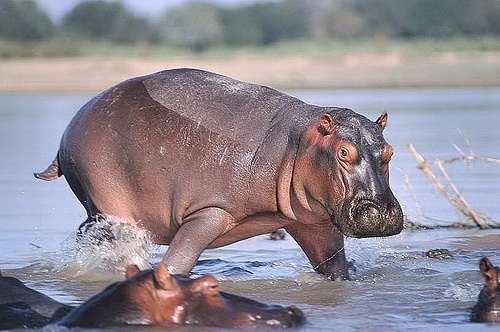hipopotamo: (27, 50, 421, 291), (26, 260, 316, 332)
